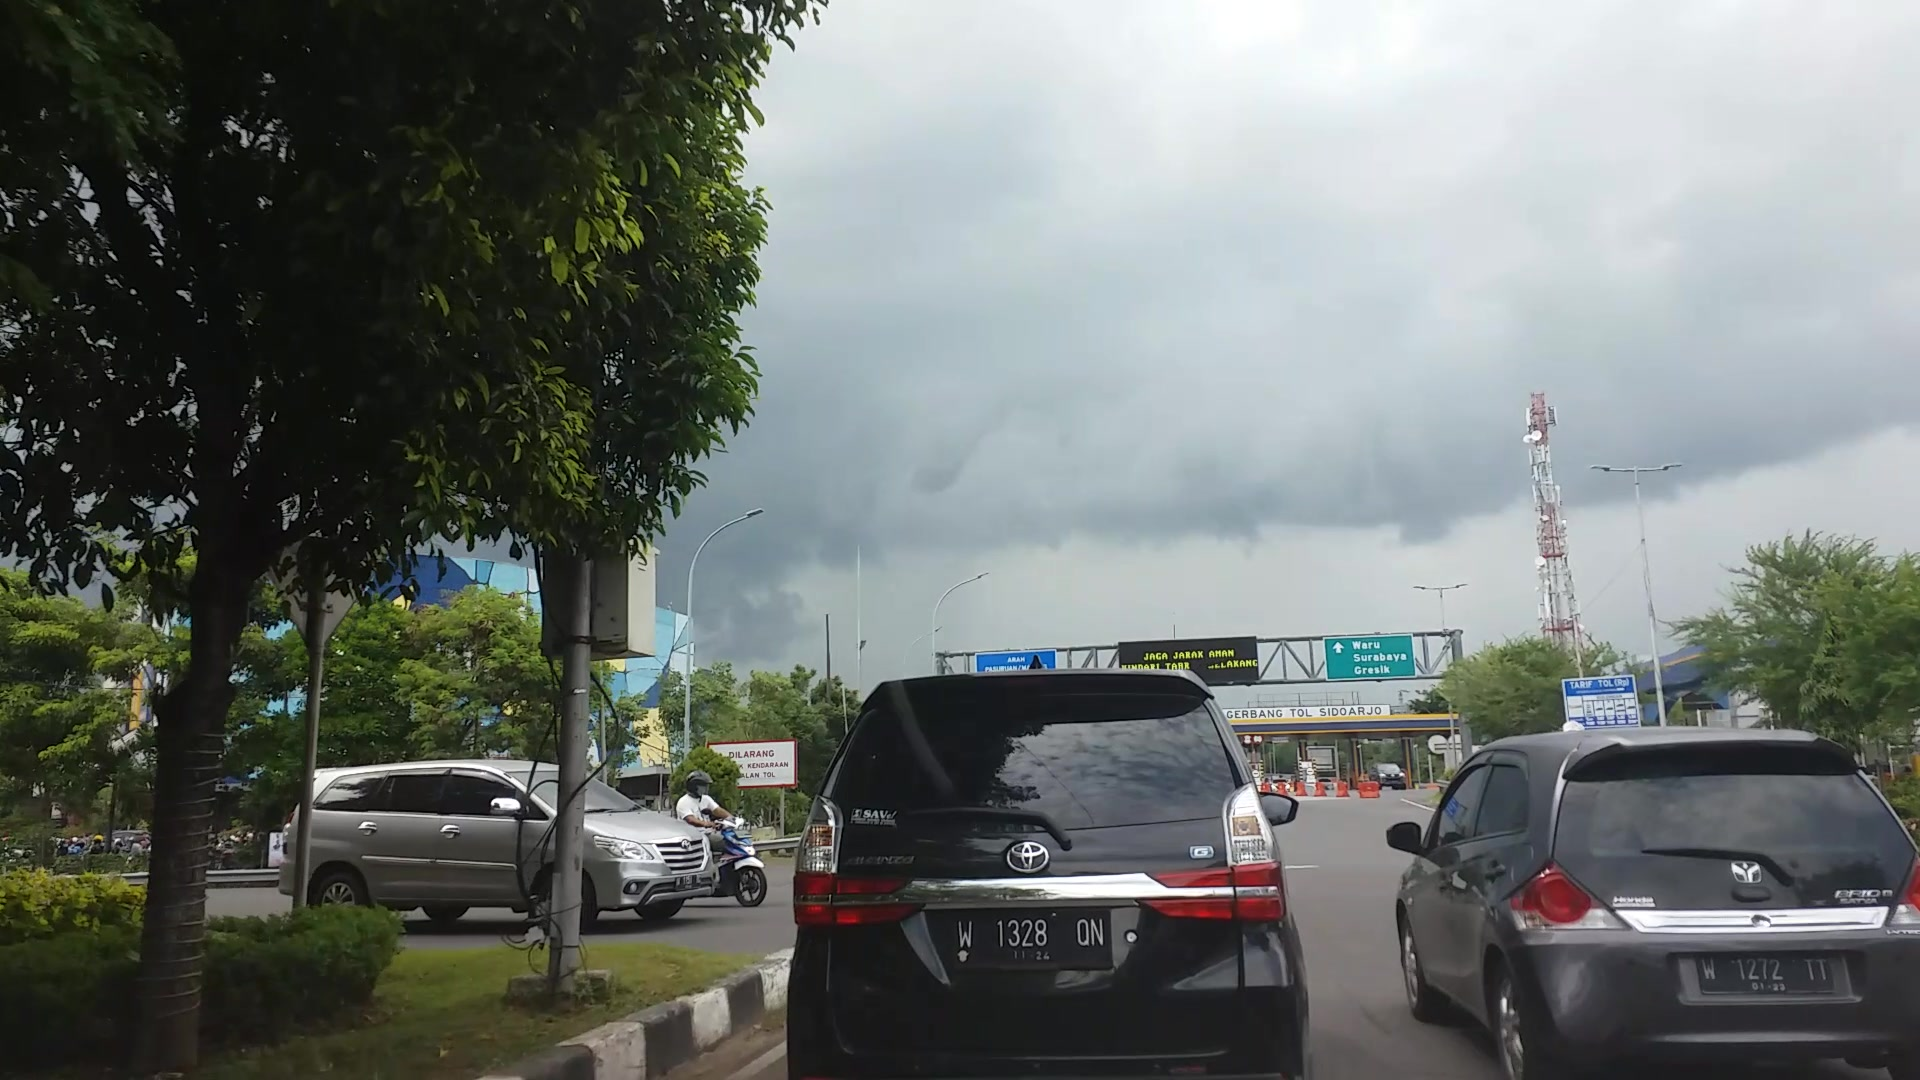plate_positive: (949, 909, 1113, 969), (1695, 952, 1836, 994)
